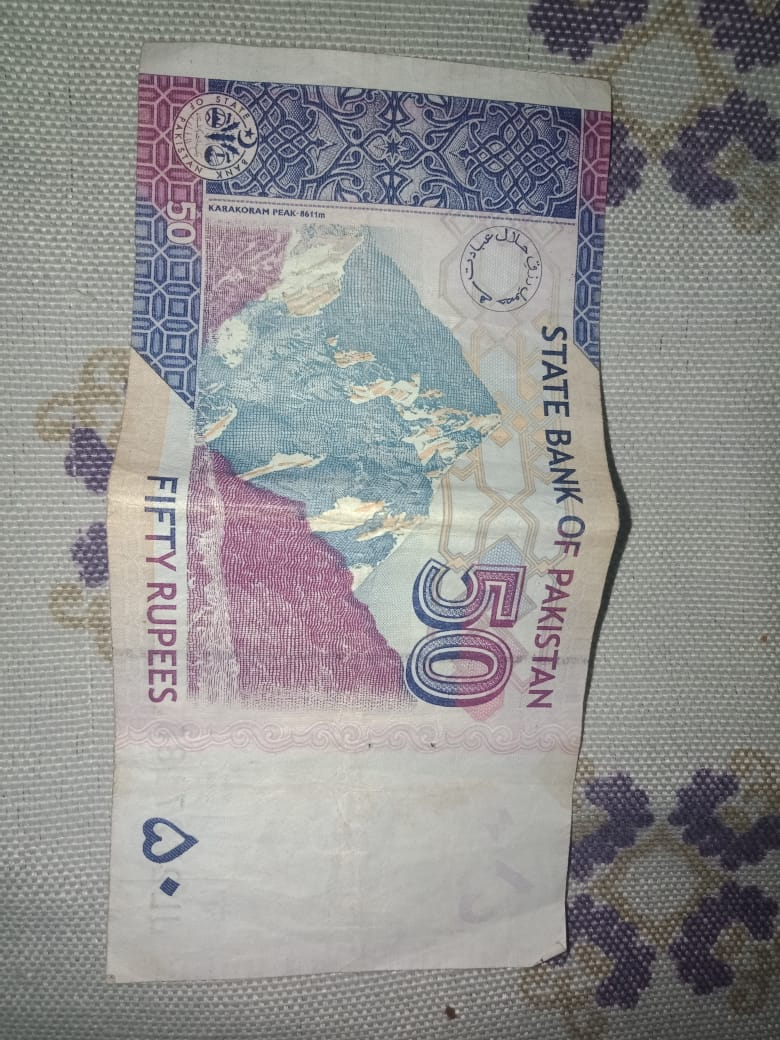50 rupee: (113, 29, 618, 1016)
